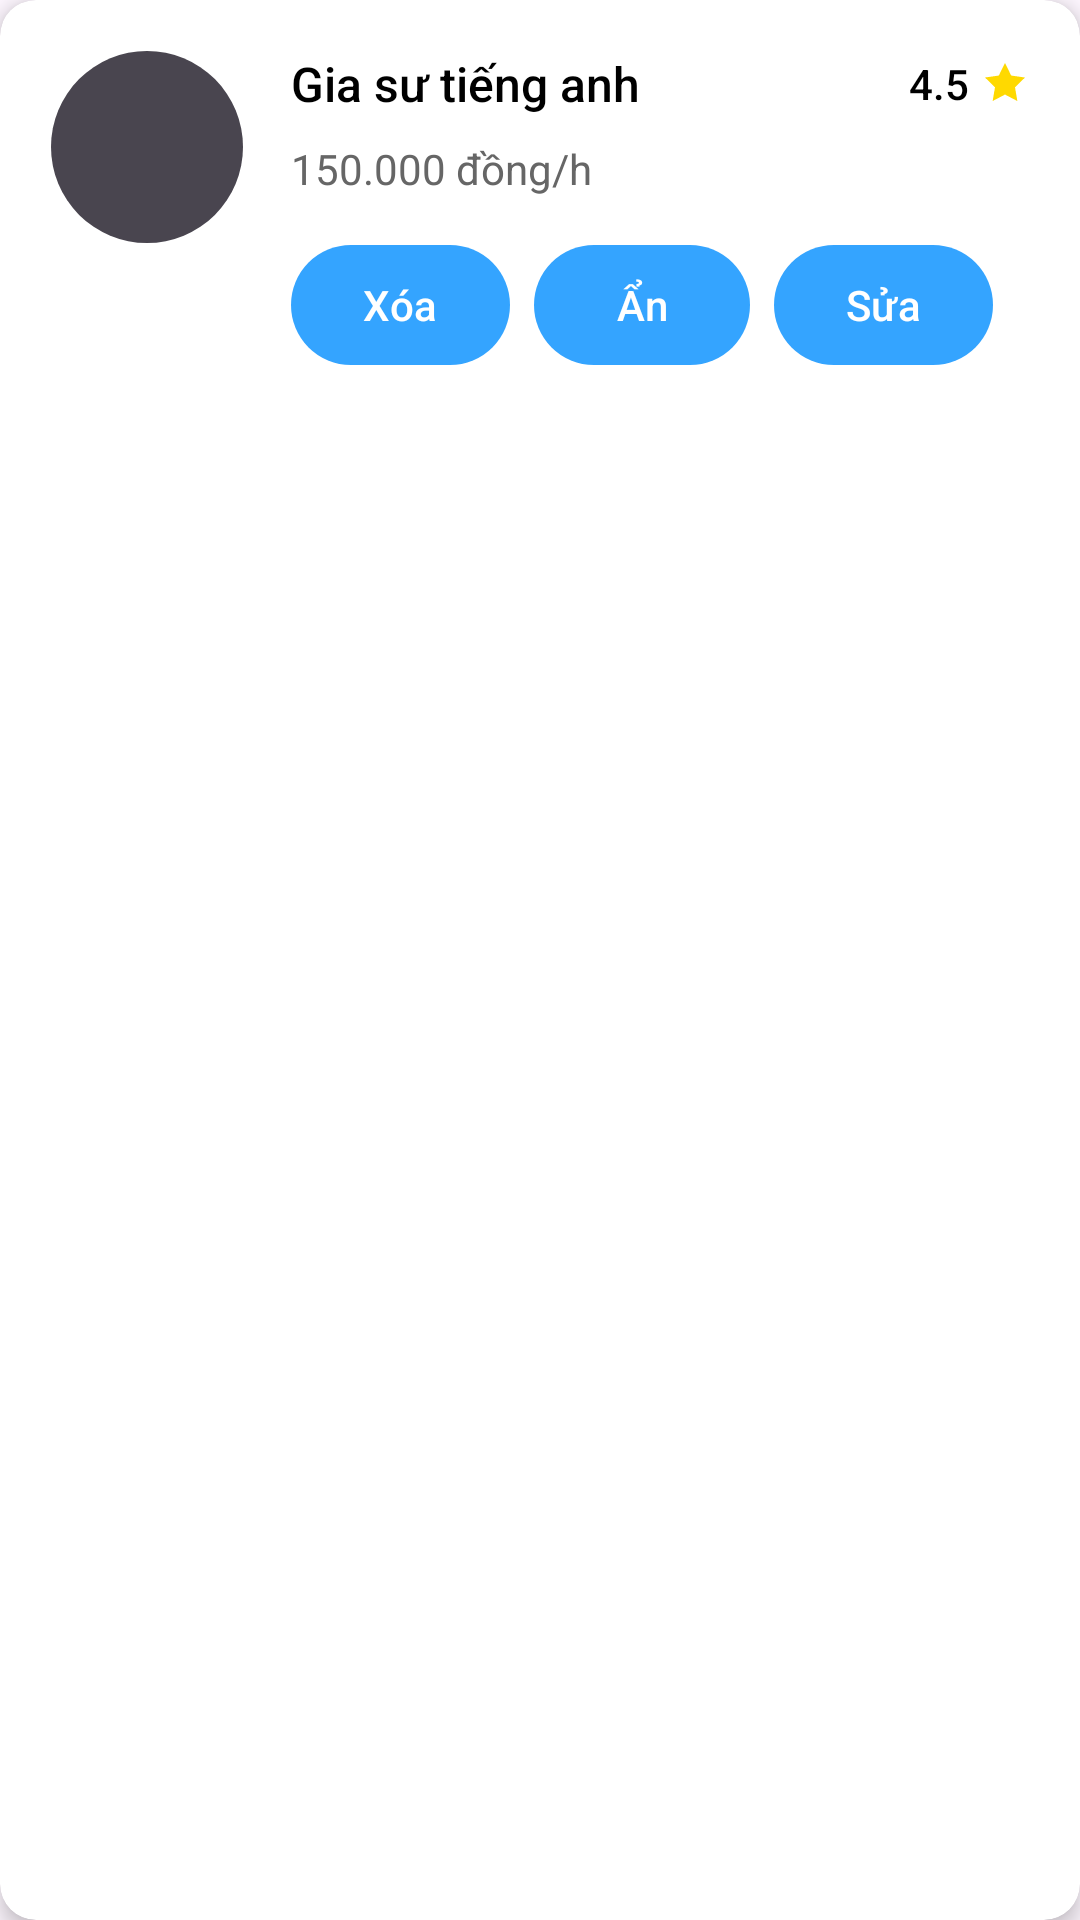

Where icons sit on this 1080 x 1920 app screen, as (x1, y1, x2, y2):
star: (985, 63, 1025, 101)
